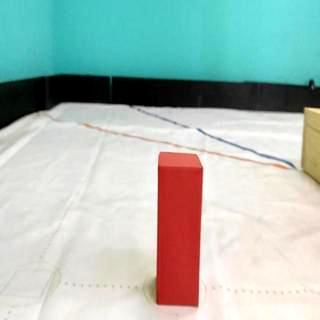redbox: (158, 152, 200, 308)
